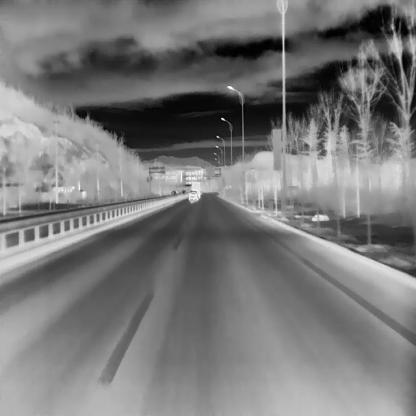car: (188, 190, 198, 202)
truck: (192, 180, 200, 198)
